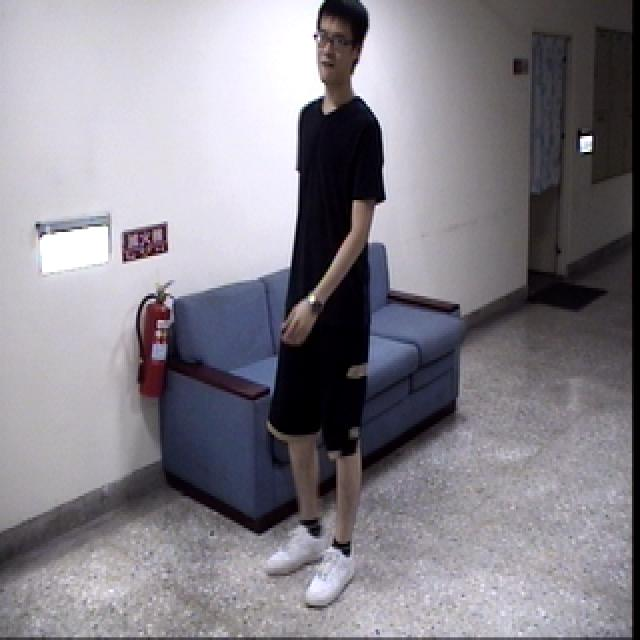stand: (260, 0, 402, 631)
